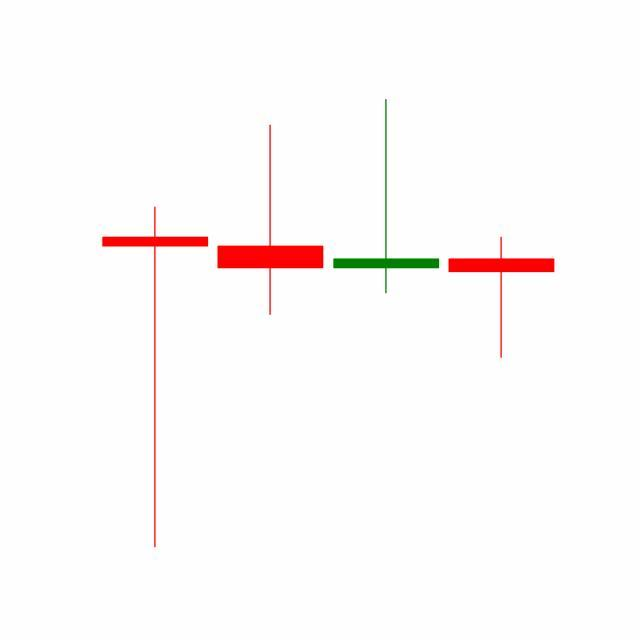Gravestone Doji: (329, 97, 445, 296)
